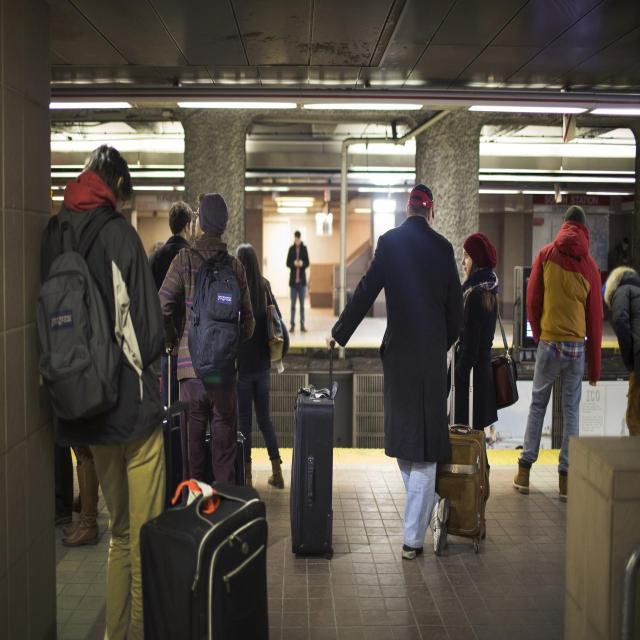body: (36, 144, 166, 640), (325, 185, 468, 561), (510, 198, 605, 506), (158, 192, 255, 486), (446, 230, 499, 541), (236, 242, 286, 490), (147, 198, 196, 431), (602, 264, 640, 436), (46, 448, 102, 540), (285, 228, 311, 334)
